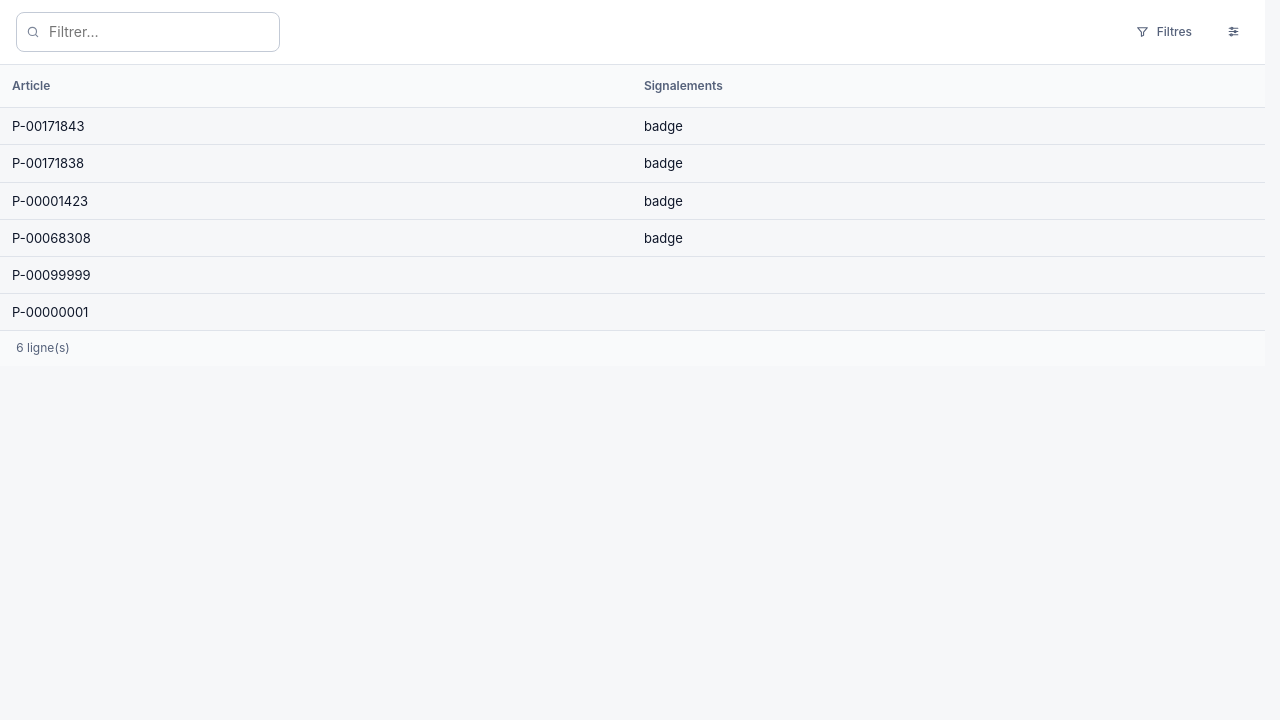
Test: les valeurs proposées › comptent les lignes qui les portent, pas les combinaisons
Click the button "Filtres". click: point(1164, 32)
box: [1123,18,1205,46]
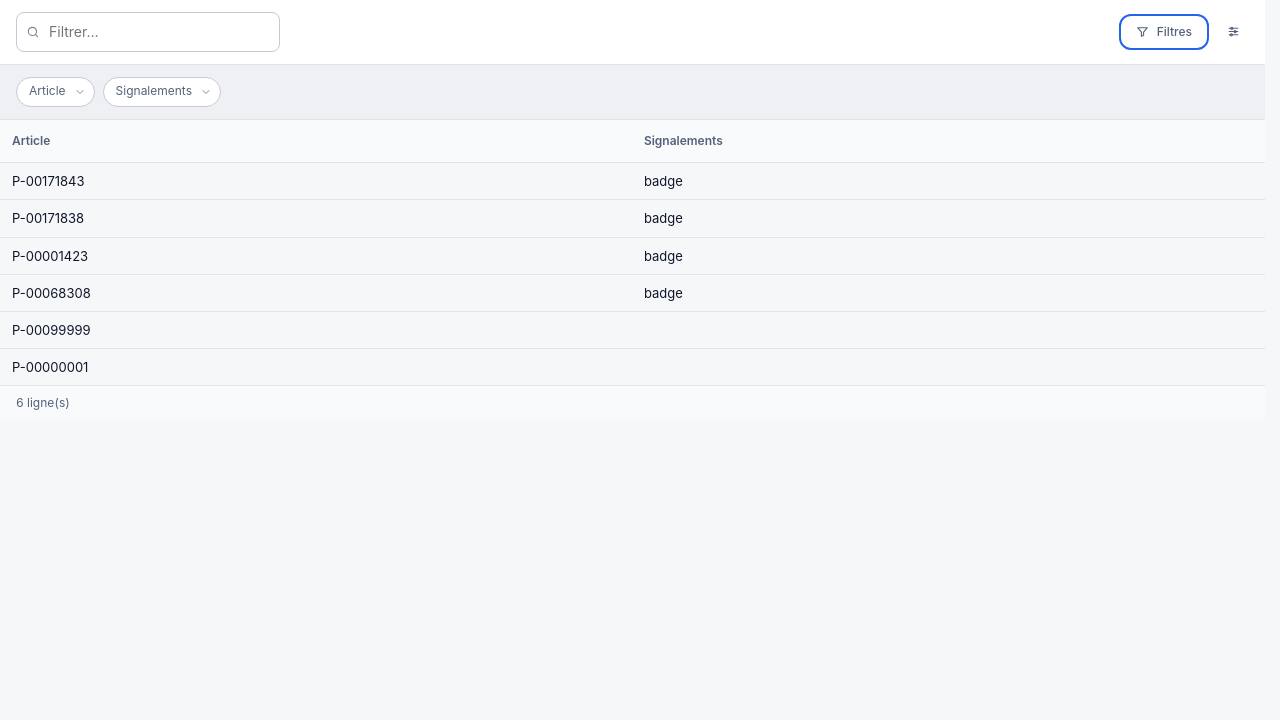
Click the button "Signalements". click: point(162, 92)
box: [103,77,221,107]
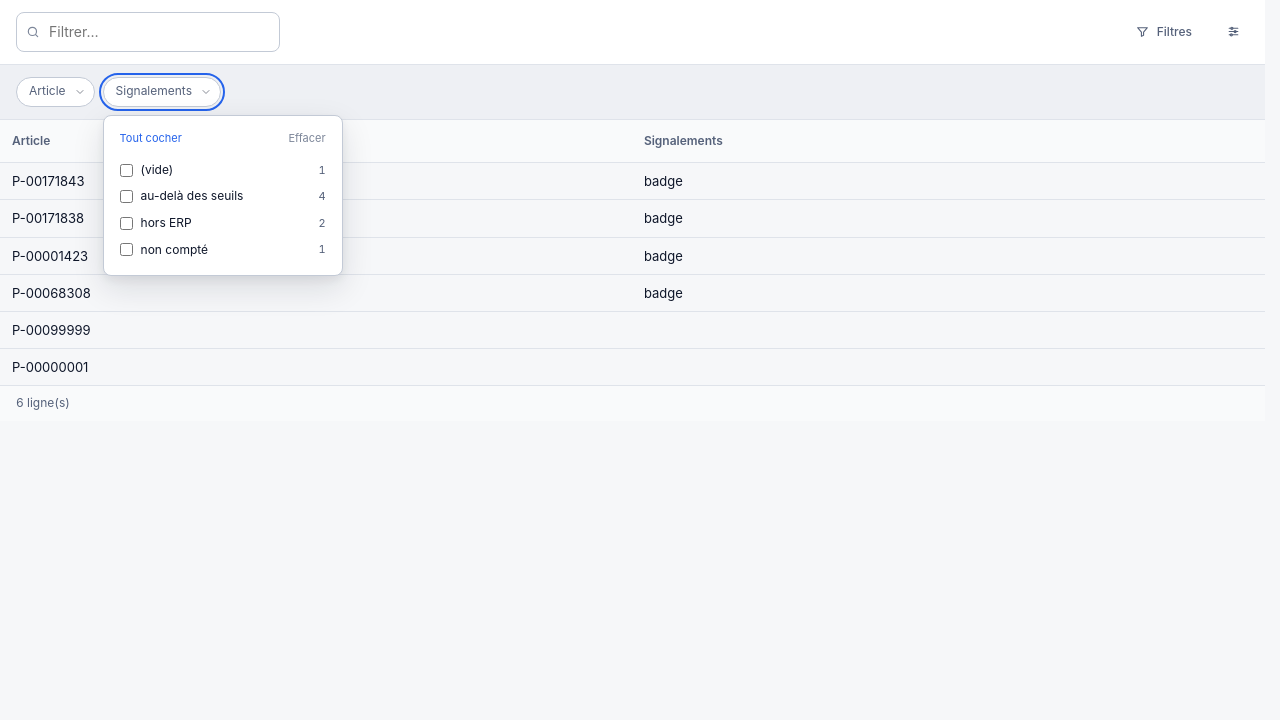
Now the label "au-delà des seuils 4" is shown, box [120,188,326,203]
